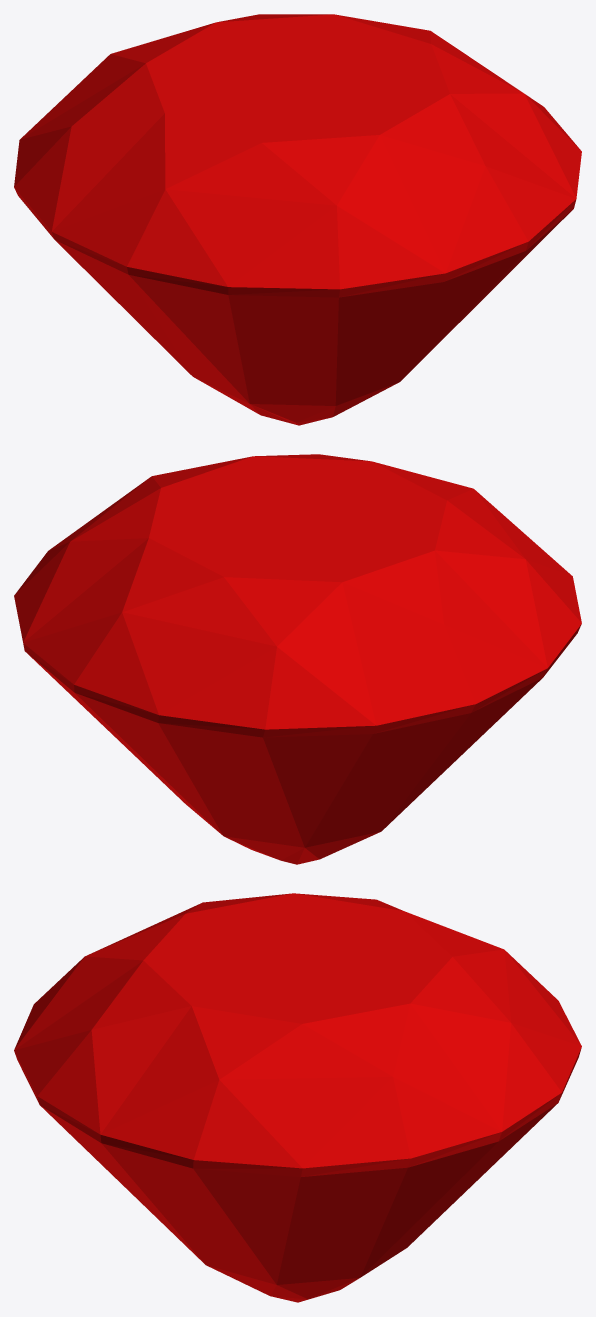
Rendered from july.fbx.
3 views of the same model, one above another, from view 1: azimuth 30°, elevation 25°; view 2: azimuth 150°, elevation 25°; view 3: azimuth 270°, elevation 25° (orthographic).
Visible parts, largest first — view 1: ruby; view 2: ruby; view 3: ruby.
Boxes of the visible parts, x1,y1,x2,y2 form: ruby: [14, 14, 581, 425]; ruby: [14, 454, 581, 864]; ruby: [14, 893, 581, 1302].
Bounding box in the file's own units: 923 × 616 × 923.
1 material, 1 textured.
